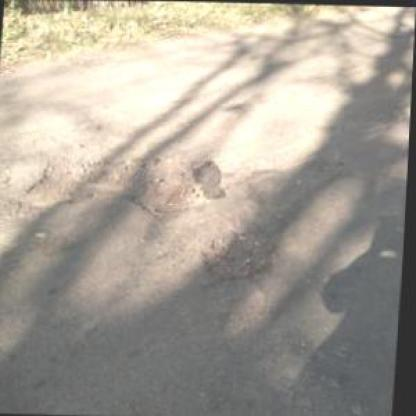pothole: (15, 150, 219, 220), (200, 225, 283, 280)
